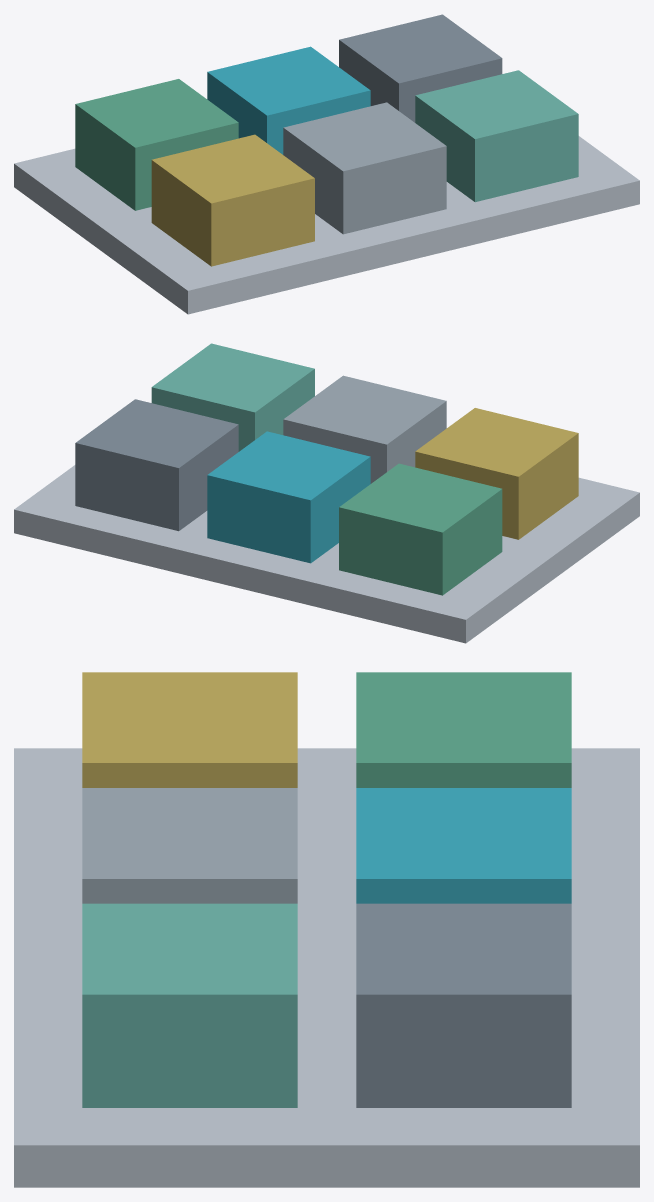
File: seed-commercial.glb
The picture shows the model from 3 angles, top to bottom: view 1: azimuth 30°, elevation 25°; view 2: azimuth 150°, elevation 25°; view 3: azimuth 270°, elevation 25°; orthographic projection. The views are drawn at different scales.
Parts seen in each view (by area): view 1: slab, B1, C2, B2, A1, C1, A2; view 2: slab, A1, C1, A2, B1, C2, B2; view 3: slab, C1, C2, A1, A2, B1, B2.
Part boxes in pixels (x1,y1,x2,y2): slab: (14,136,639,314); B1: (151,134,314,266); C2: (415,70,578,202); B2: (283,102,446,234); A1: (75,79,238,210); C1: (339,14,502,122); A2: (207,46,370,154); slab: (14,465,639,643); A1: (339,463,502,595); C1: (75,399,238,531); A2: (207,431,370,563); B1: (415,408,578,539); C2: (151,343,314,451); B2: (283,375,446,483); slab: (14,748,639,1187); C1: (356,903,571,1107); C2: (82,903,297,1107); A1: (356,672,571,787); A2: (356,788,571,903); B1: (82,672,297,787); B2: (82,788,297,903).
Bounding box in the file's own units: 24 × 4.4 × 16.
